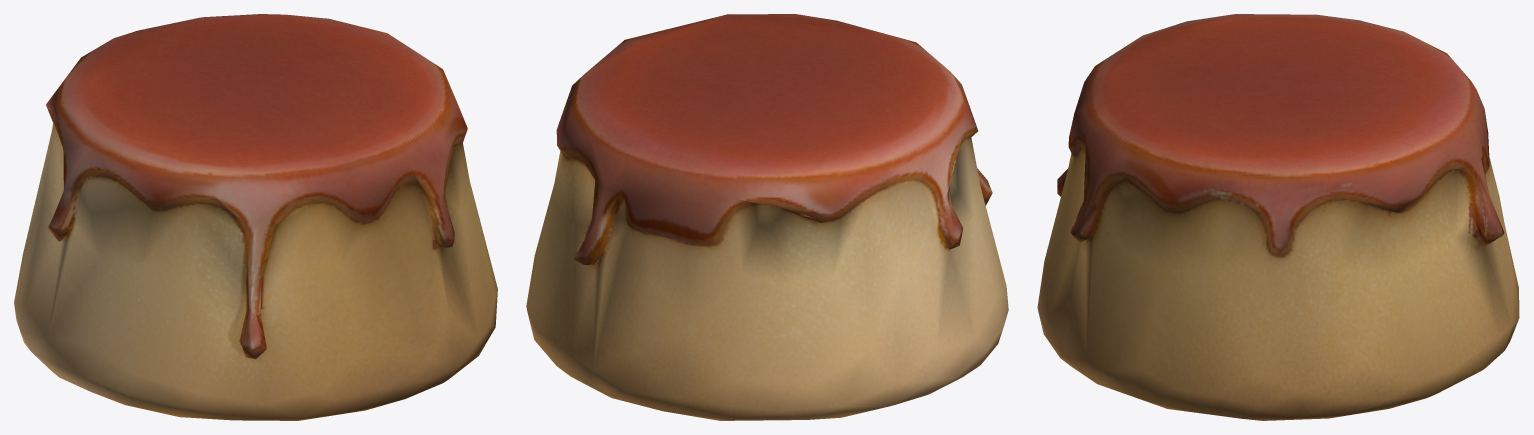
Rendered from Food_Pudding.fbx.
3 renders of one model, left to right at view 1: azimuth 30°, elevation 25°; view 2: azimuth 150°, elevation 25°; view 3: azimuth 270°, elevation 25°, orthographic.
Visible parts, largest first — view 1: Food_LOD0; view 2: Food_LOD0; view 3: Food_LOD0.
Boxes of the visible parts, x1,y1,x2,y2 form: Food_LOD0: [14, 14, 497, 420]; Food_LOD0: [526, 14, 1008, 420]; Food_LOD0: [1037, 14, 1519, 420].
Size of the model in its own units: 0.2595 by 0.145 by 0.26.
1 material, 1 textured.
